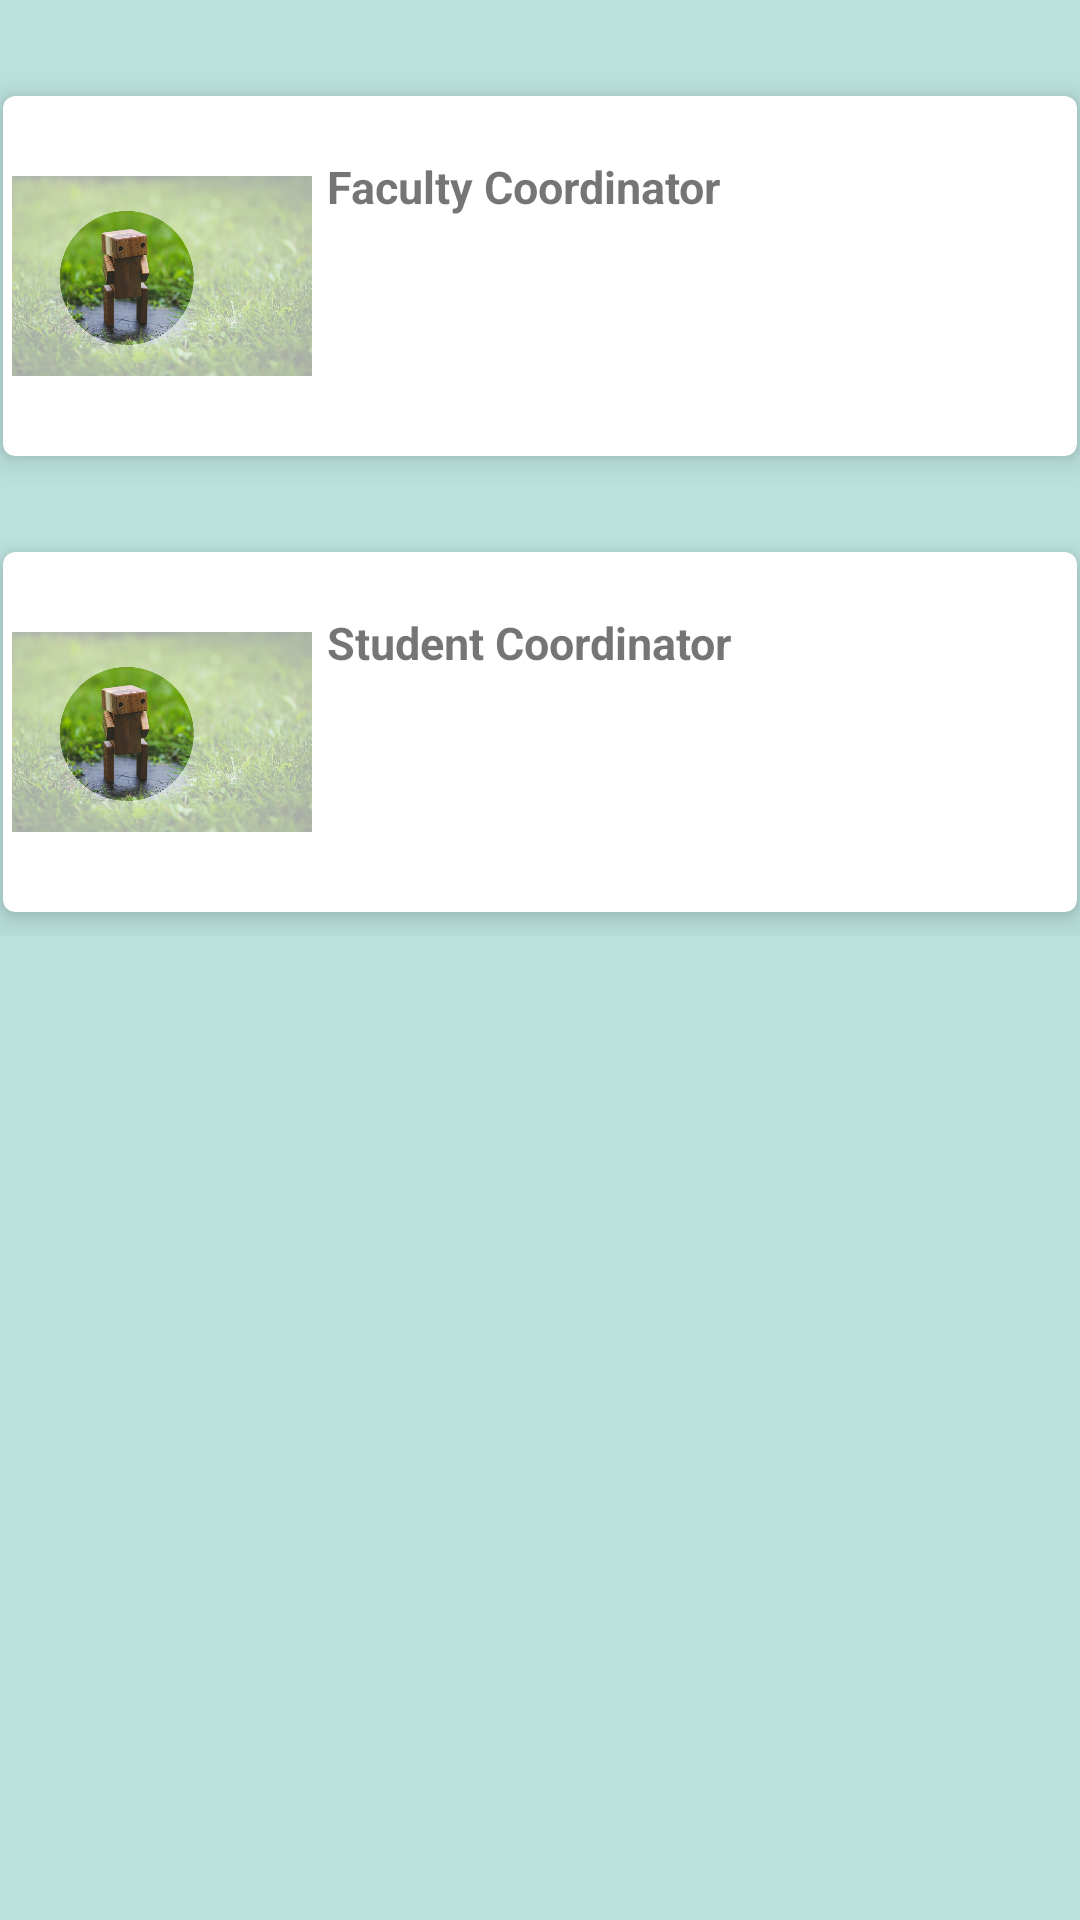

Where icons sit on this 1080*1920 app screen, as (x1, y1, x2, y2):
android: (12, 176, 312, 376), (12, 632, 312, 832)
